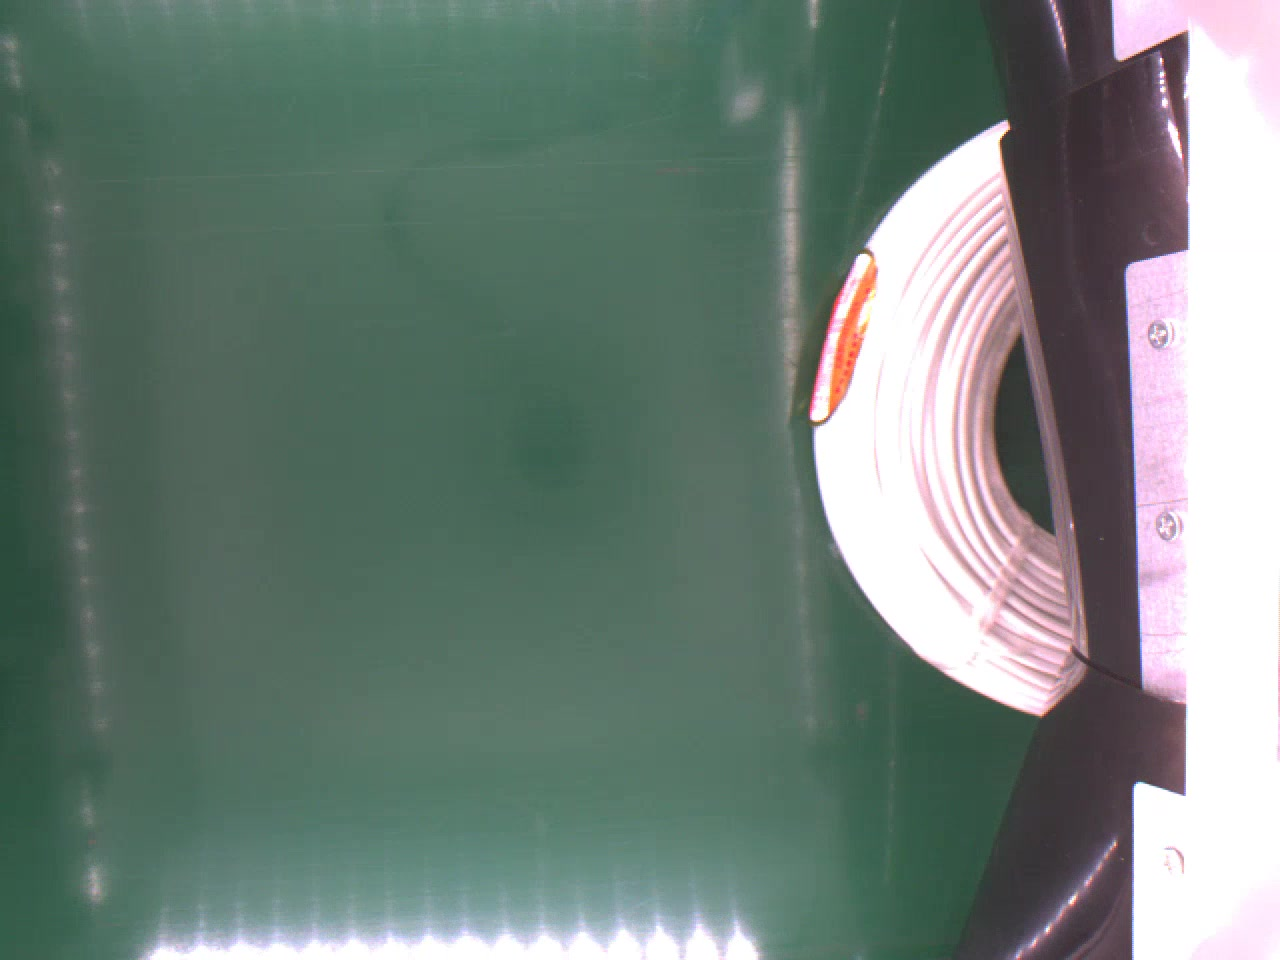white: (805, 119, 1074, 716)
